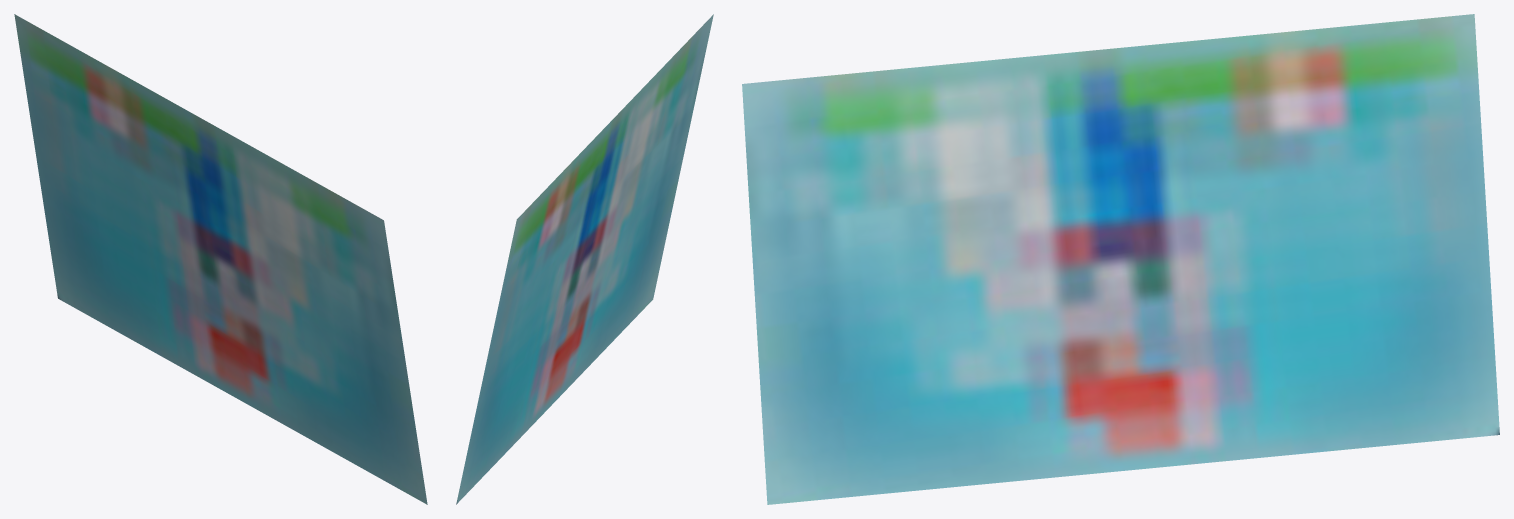
Rendered from pingmu.FBX.
The picture shows the model from 3 angles, left to right: view 1: azimuth 30°, elevation 25°; view 2: azimuth 150°, elevation 25°; view 3: azimuth 270°, elevation 25°; orthographic projection. The views are drawn at different scales.
Parts seen in each view (by area): view 1: pingmu; view 2: pingmu; view 3: pingmu.
Boxes of the visible parts, x1=… form: pingmu: x1=14, y1=14, x2=427, y2=504; pingmu: x1=456, y1=14, x2=713, y2=504; pingmu: x1=742, y1=14, x2=1499, y2=504.
Size of the model in its own units: 151 by 341 by 576.
Materials: 1 (1 with a texture image).
